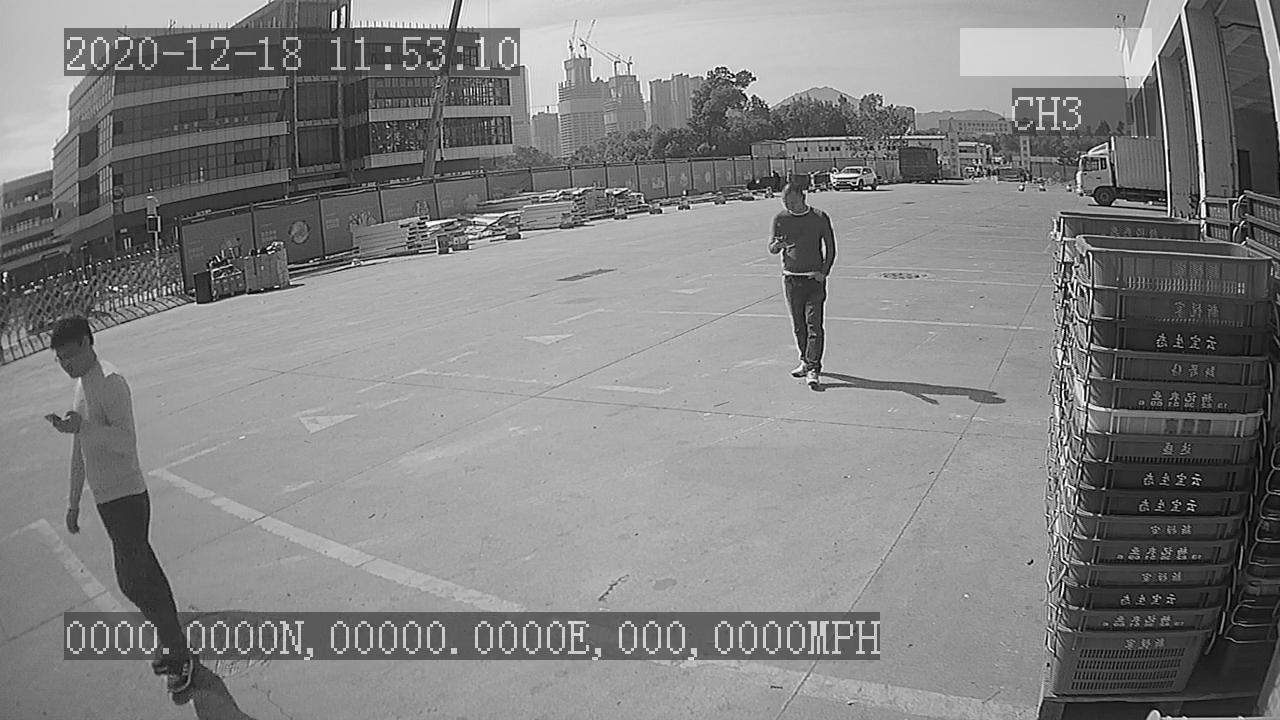person: (758, 179, 840, 399)
